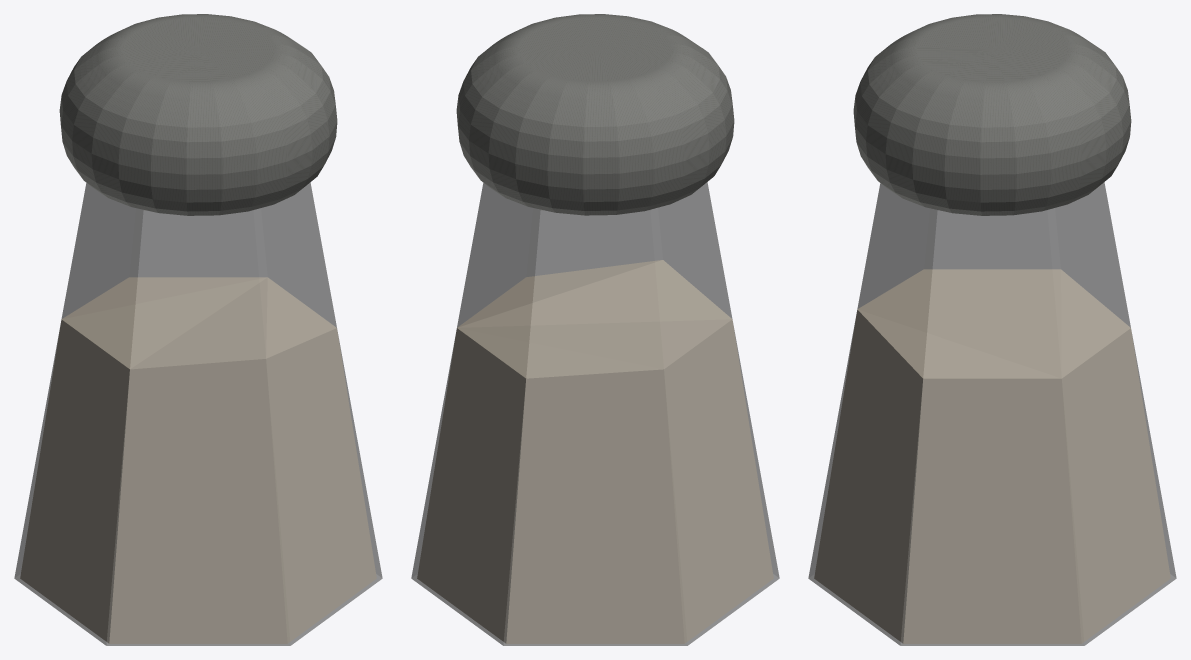
The model's file is Sodium_SaltShaker.fbx.
3 renders of one model, left to right at view 1: azimuth 30°, elevation 25°; view 2: azimuth 150°, elevation 25°; view 3: azimuth 270°, elevation 25°, orthographic.
Parts seen in each view (by area): view 1: Sodium_SaltShaker-SKP-Translucent_Glass_Gray, Sodium_SaltShaker-SKP-0011_Seashell, Sodium_SaltShaker-SKP-Metal_Seamed; view 2: Sodium_SaltShaker-SKP-Translucent_Glass_Gray, Sodium_SaltShaker-SKP-0011_Seashell, Sodium_SaltShaker-SKP-Metal_Seamed; view 3: Sodium_SaltShaker-SKP-Translucent_Glass_Gray, Sodium_SaltShaker-SKP-0011_Seashell, Sodium_SaltShaker-SKP-Metal_Seamed.
Boxes of the visible parts, bbox=[...] form: Sodium_SaltShaker-SKP-Translucent_Glass_Gray: bbox=[14, 182, 382, 645]; Sodium_SaltShaker-SKP-0011_Seashell: bbox=[20, 277, 376, 643]; Sodium_SaltShaker-SKP-Metal_Seamed: bbox=[59, 14, 337, 215]; Sodium_SaltShaker-SKP-Translucent_Glass_Gray: bbox=[411, 182, 779, 645]; Sodium_SaltShaker-SKP-0011_Seashell: bbox=[417, 260, 773, 643]; Sodium_SaltShaker-SKP-Metal_Seamed: bbox=[456, 14, 734, 215]; Sodium_SaltShaker-SKP-Translucent_Glass_Gray: bbox=[808, 182, 1176, 645]; Sodium_SaltShaker-SKP-0011_Seashell: bbox=[814, 269, 1170, 643]; Sodium_SaltShaker-SKP-Metal_Seamed: bbox=[853, 14, 1131, 215].
Size of the model in its own units: 89.66 by 164 by 104.
